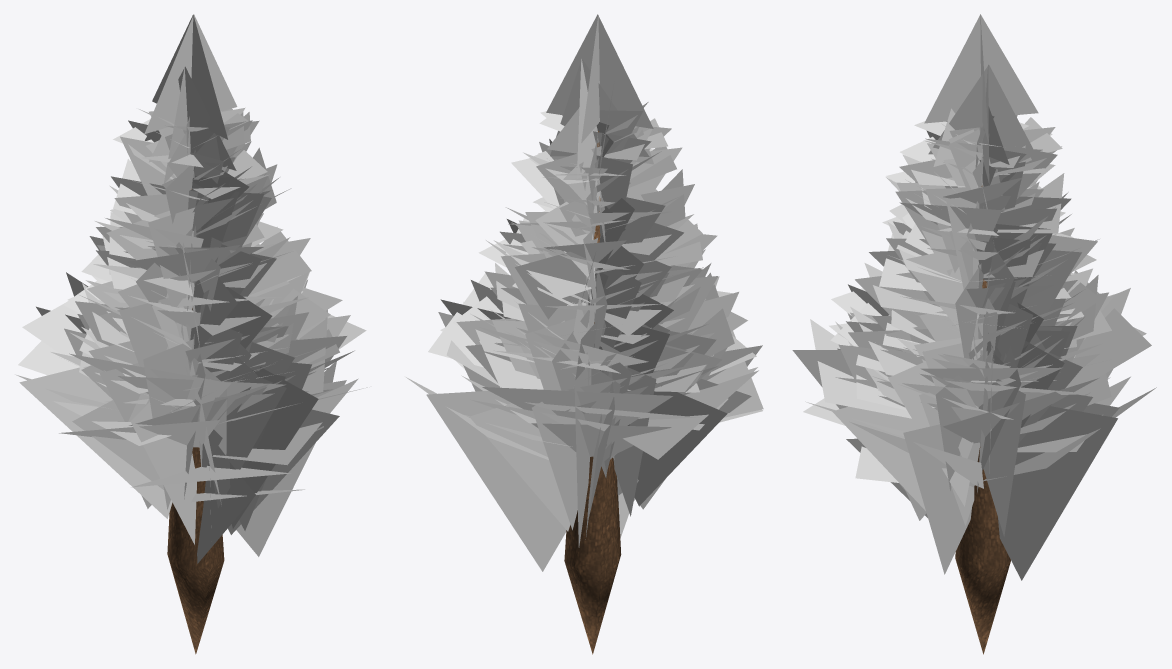
3 renders of one model, left to right at view 1: azimuth 30°, elevation 25°; view 2: azimuth 150°, elevation 25°; view 3: azimuth 270°, elevation 25°, orthographic.
Parts seen in each view (by area): view 1: tree_LOD0; view 2: tree_LOD0; view 3: tree_LOD0.
Part boxes in pixels (x1,y1,x2,y2): tree_LOD0: (15, 14, 367, 654); tree_LOD0: (406, 14, 763, 654); tree_LOD0: (792, 14, 1156, 654).
Size of what is drawn, in the model's own units: 1532 by 3002 by 1557.
